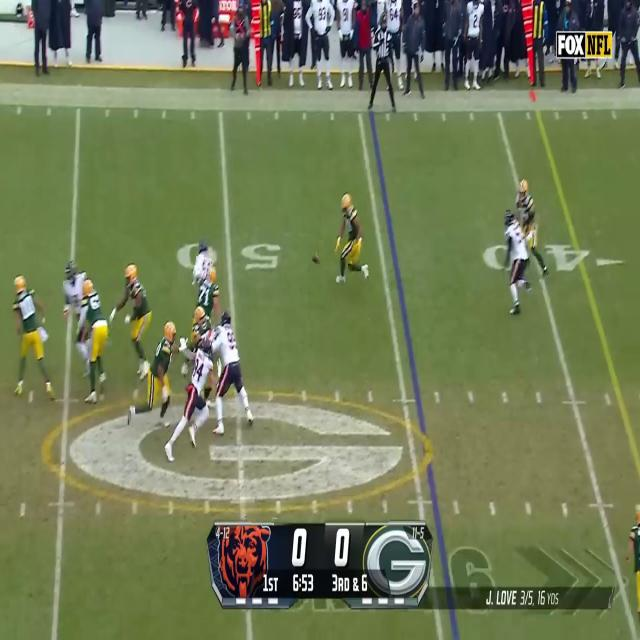Player: (178, 342, 215, 466), (213, 310, 250, 432), (13, 274, 45, 404), (119, 259, 152, 375), (144, 322, 178, 428), (84, 280, 110, 404), (504, 211, 527, 321), (336, 190, 362, 282), (63, 258, 84, 370), (197, 266, 224, 320), (517, 178, 537, 234)
Referee: (369, 13, 396, 114)
